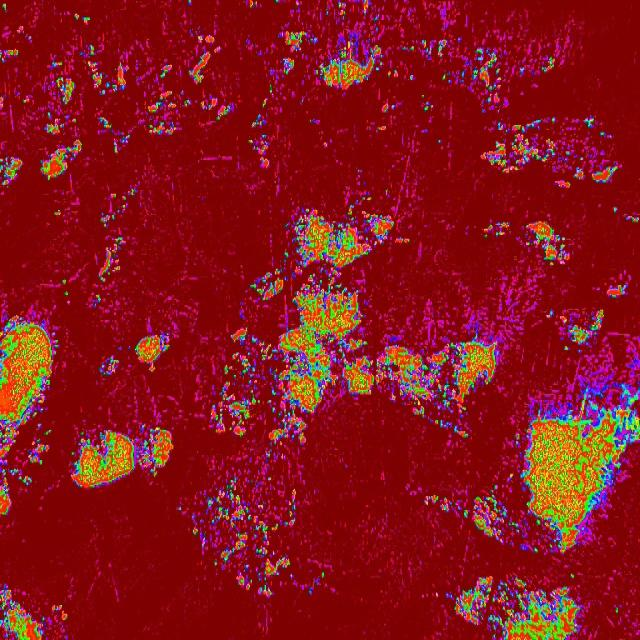fire: (206, 190, 502, 465), (511, 377, 640, 558), (175, 471, 330, 600), (45, 44, 231, 131), (385, 34, 560, 112), (1, 312, 59, 518), (481, 117, 624, 187), (444, 567, 581, 640), (68, 420, 176, 490), (246, 30, 310, 131), (87, 189, 140, 310), (422, 485, 511, 540), (542, 308, 614, 354), (0, 580, 49, 640), (322, 42, 382, 89), (523, 216, 573, 272), (36, 136, 88, 183), (133, 325, 171, 375), (591, 268, 631, 302), (242, 132, 274, 170), (0, 152, 25, 186), (95, 350, 118, 385), (613, 204, 640, 228), (52, 597, 74, 625), (322, 0, 348, 22), (358, 0, 381, 21), (57, 273, 76, 298), (112, 132, 134, 152), (70, 8, 94, 24), (0, 43, 22, 59), (500, 217, 515, 239), (376, 118, 389, 138), (611, 602, 622, 620), (245, 0, 258, 12), (54, 208, 64, 222), (0, 0, 11, 12), (183, 0, 196, 10), (272, 0, 282, 8)
